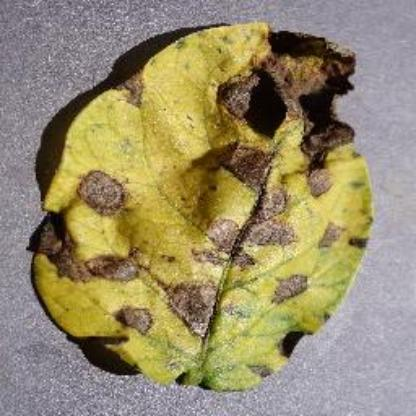Early-Blight: (28, 17, 372, 393)
